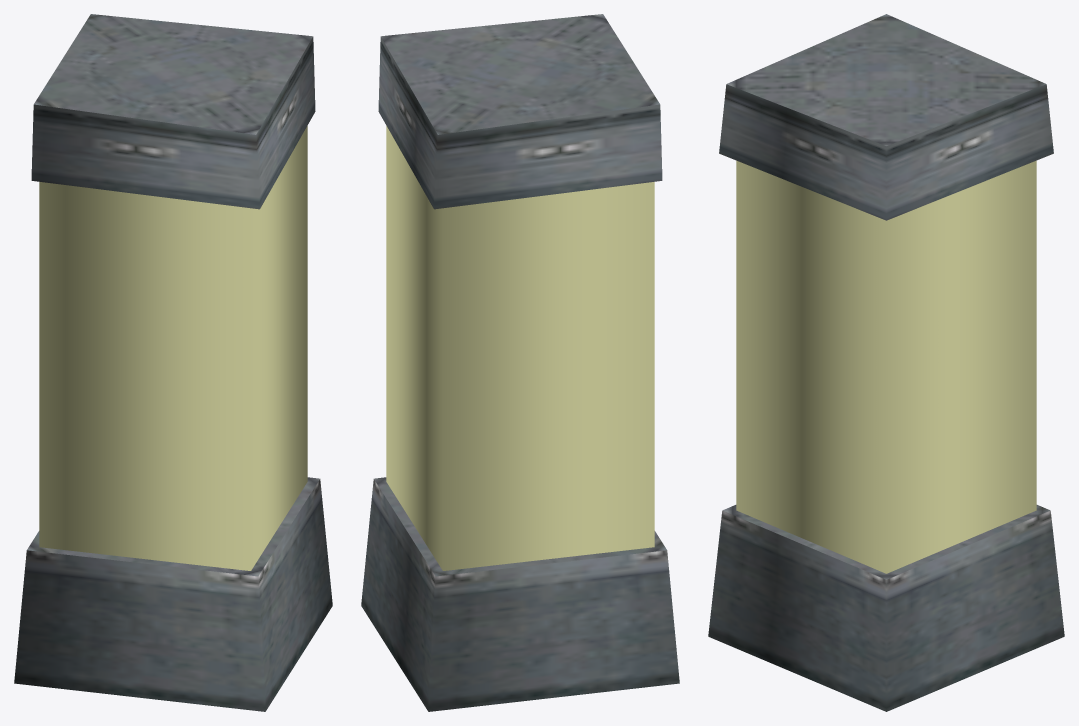
The model's file is frn_all_glow_lantern_s2_l3.fbx.
The picture shows the model from 3 angles, left to right: view 1: azimuth 30°, elevation 25°; view 2: azimuth 150°, elevation 25°; view 3: azimuth 270°, elevation 25°; orthographic projection. The views are drawn at different scales.
Parts seen in each view (by area): view 1: mesh_node; view 2: mesh_node; view 3: mesh_node.
Part boxes in pixels (x1,y1,x2,y2): mesh_node: [14, 14, 332, 711]; mesh_node: [361, 14, 679, 711]; mesh_node: [708, 14, 1064, 711].
Bounding box in the file's own units: 0.2719 × 0.4682 × 0.2719.
